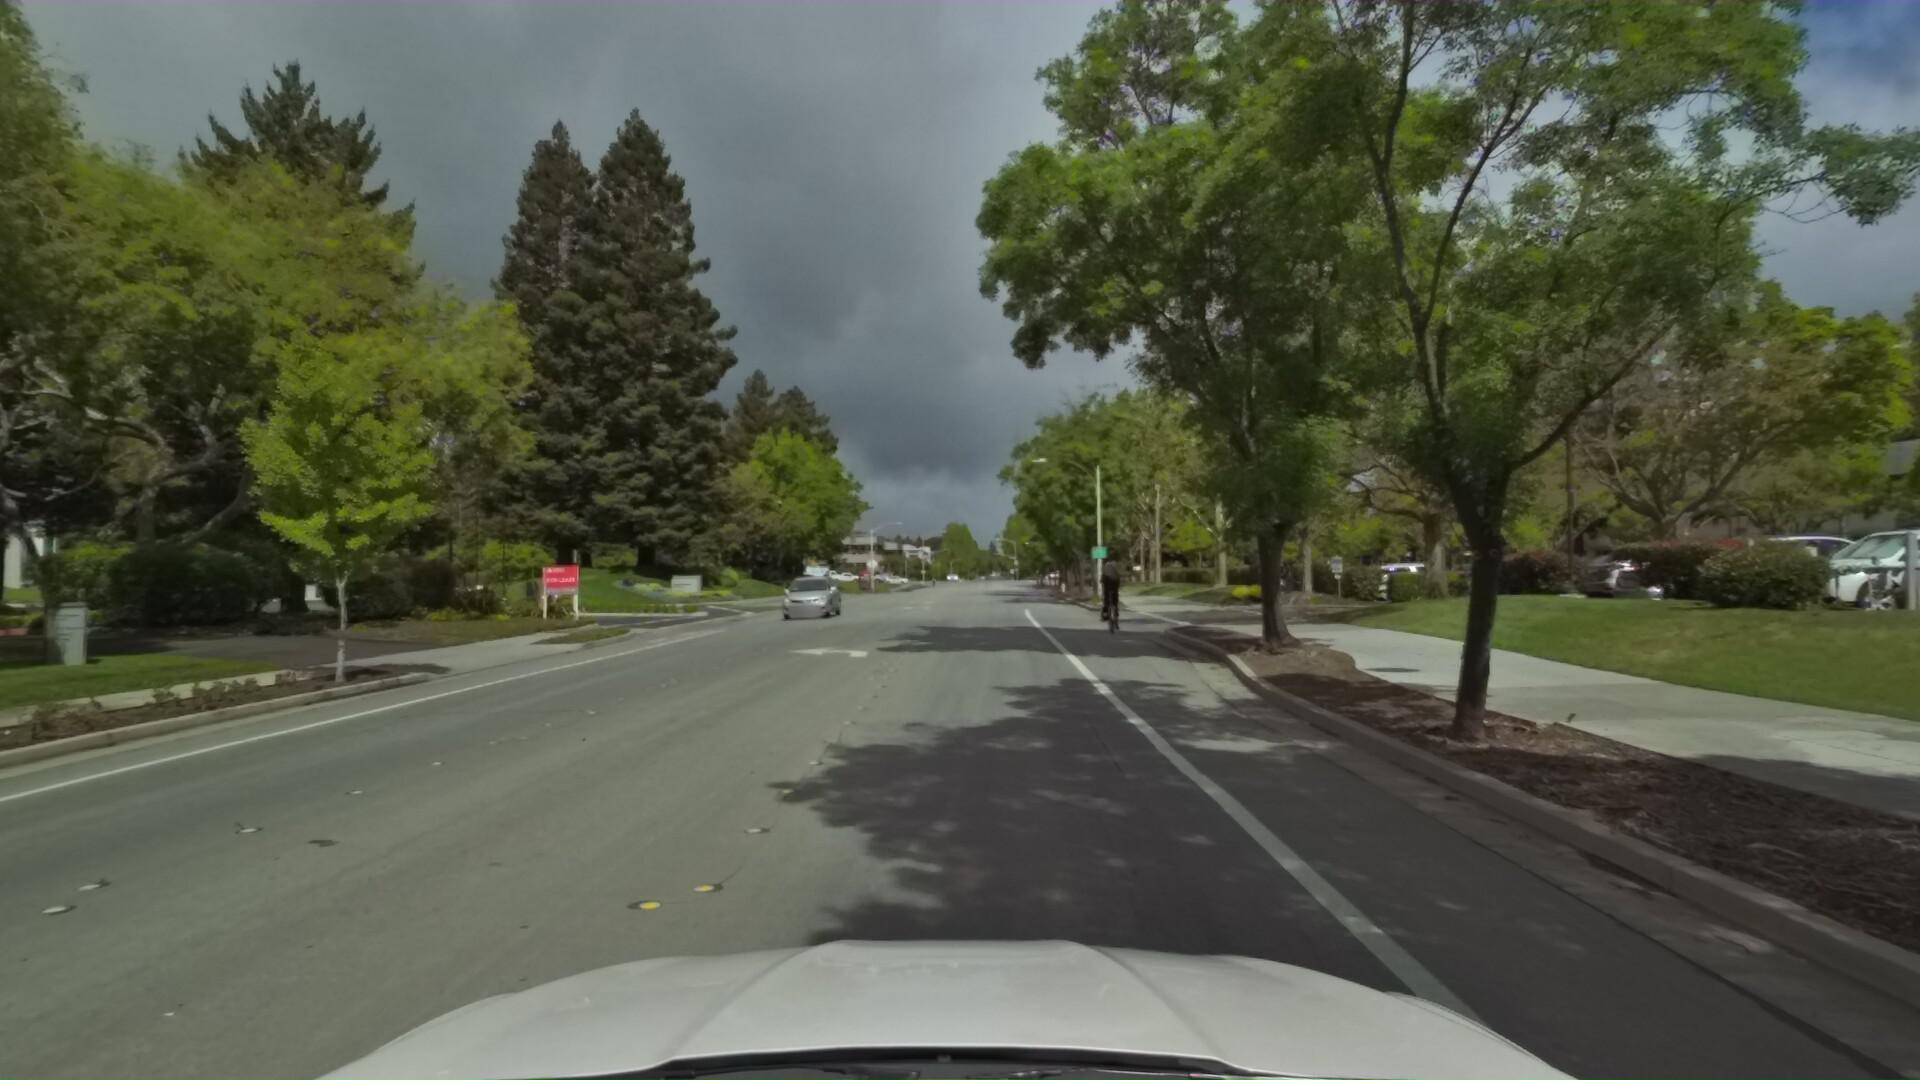bicycle: (1091, 556, 1131, 636)
car: (771, 570, 839, 618)
